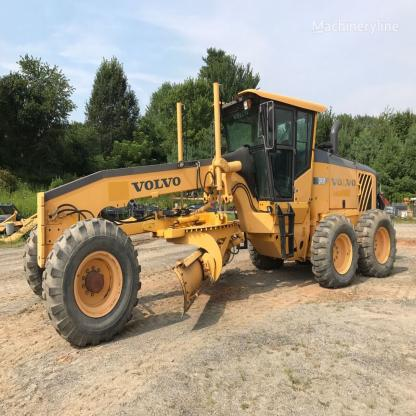bull_dozer/loader/grader: (15, 71, 404, 348)
